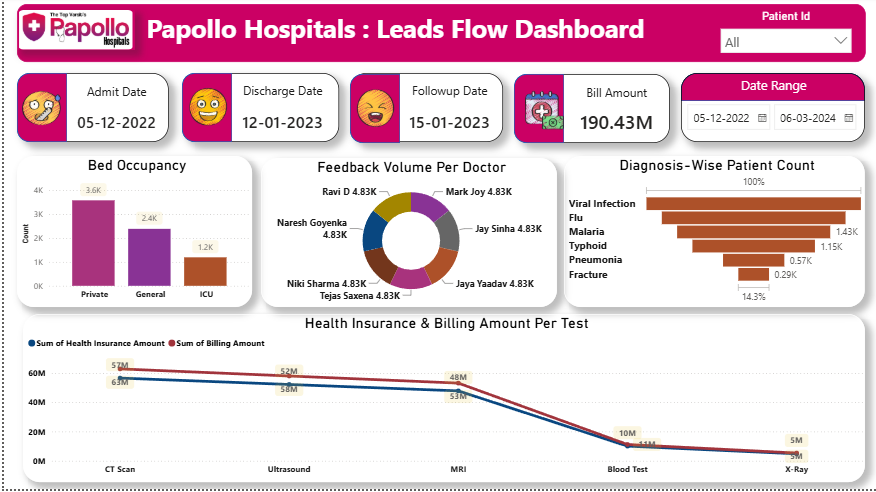

What the dashboard file says about the page in this screenshot:
{"tool":"powerbi","page":{"name":"Page 2","canvas":[1280,720],"ordinal":0},"visuals":[{"type":"shape","box":[19,111.2,222.4,101],"z":0},{"type":"shape","box":[19,111.2,73.2,101],"z":1000},{"type":"shape","box":[990.7,111.2,269.3,41],"z":2000},{"type":"cardVisual","fields":{"Data":["Min(Sheet1.Diagnosis)"]},"box":[18.3,10,1241.7,85],"z":3000},{"type":"image","box":[18.3,18.3,171.7,58.3],"z":4000},{"type":"textbox","box":[203.3,15,745,66.7],"z":5000},{"type":"slicer","title":"Patient Id ","fields":{"Values":["Sheet1.Patient_ID"]},"box":[1039,14.6,210.7,76.1],"z":6000},{"type":"image","box":[26.3,133.2,57.1,58.5],"z":7000},{"type":"shape","box":[260.5,111.2,229.8,101],"z":8000},{"type":"shape","box":[506.3,111.2,223.9,101],"z":9000},{"type":"shape","box":[746.3,112.7,228.3,101],"z":10000},{"type":"shape","box":[990.7,111.2,269.3,101],"z":11000},{"type":"shape","box":[260.5,111.2,73.2,101],"z":12000},{"type":"shape","box":[506.3,112.7,73.2,101],"z":13000},{"type":"shape","box":[746.3,112.7,73.2,101],"z":14000},{"type":"image","box":[270.7,131.7,55.6,58.5],"z":15000},{"type":"image","box":[512.2,134.6,62.9,55.6],"z":16000},{"type":"image","box":[762.4,133.2,57.1,64.4],"z":17000},{"type":"cardVisual","fields":{"Data":["Min(Sheet1.Admit_Date)"]},"box":[103.9,114.1,122.9,93.7],"z":18000},{"type":"cardVisual","fields":{"Data":["Min(Sheet1.Discharge_Date)"]},"box":[346.8,114.1,122.9,93.7],"z":19000},{"type":"cardVisual","fields":{"Data":["Min(Sheet1.Followup Date)"]},"box":[591.2,114.1,122.9,93.7],"z":20000},{"type":"cardVisual","fields":{"Data":["Sum(Sheet1.Billing Amount)"]},"box":[835.6,117.1,122.9,93.7],"z":21000},{"type":"columnChart","title":"Bed Occupancy","fields":{"Category":["Sheet1.Bed_Occupancy"],"Y":["CountNonNull(Sheet1.Bed_Occupancy)"]},"box":[19,232.7,343.9,221],"z":22000},{"type":"donutChart","title":"Feedback Volume Per Doctor ","fields":{"Y":["Sum(Sheet1.Feedback)"],"Category":["Sheet1.Doctor"]},"box":[376.1,235.6,433.2,218],"z":23000},{"type":"funnel","title":"Diagnosis-Wise Patient Count","fields":{"Category":["Sheet1.Diagnosis"],"Y":["CountNonNull(Sheet1.Patient_ID)"]},"box":[819.5,232.7,440.5,221],"z":24000},{"type":"lineChart","title":"Health Insurance & Billing Amount Per Test","fields":{"Category":["Sheet1.Test"],"Y":["Sum(Sheet1.Health Insurance Amount)","Sum(Sheet1.Billing Amount)"]},"box":[27.8,463.9,1232.2,245.9],"z":25000},{"type":"slicer","fields":{"Values":["Sheet1.Admit_Date"]},"box":[992.2,152.2,264.9,55.6],"z":26000},{"type":"textbox","box":[1058,111.2,142,41],"z":27000}]}

Visuals, with their boxes in screenshot pixels (x1, y1, x2, y2), scaled from the page's 1280x720 canvas onto the 876x492 screenshot:
shape: detection(13, 76, 165, 145)
shape: detection(13, 76, 63, 145)
shape: detection(678, 76, 862, 104)
cardVisual - Min(Sheet1.Diagnosis): detection(13, 7, 862, 65)
image: detection(13, 13, 130, 52)
textbox: detection(139, 10, 649, 56)
"Patient Id " slicer: detection(711, 10, 855, 62)
image: detection(18, 91, 57, 131)
shape: detection(178, 76, 336, 145)
shape: detection(346, 76, 500, 145)
shape: detection(511, 77, 667, 146)
shape: detection(678, 76, 862, 145)
shape: detection(178, 76, 228, 145)
shape: detection(346, 77, 397, 146)
shape: detection(511, 77, 561, 146)
image: detection(185, 90, 223, 130)
image: detection(351, 92, 394, 130)
image: detection(522, 91, 561, 135)
cardVisual - Min(Sheet1.Admit_Date): detection(71, 78, 155, 142)
cardVisual - Min(Sheet1.Discharge_Date): detection(237, 78, 321, 142)
cardVisual - Min(Sheet1.Followup Date): detection(405, 78, 489, 142)
cardVisual - Sum(Sheet1.Billing Amount): detection(572, 80, 656, 144)
"Bed Occupancy" columnChart: detection(13, 159, 248, 310)
"Feedback Volume Per Doctor " donutChart: detection(257, 161, 554, 310)
"Diagnosis-Wise Patient Count" funnel: detection(561, 159, 862, 310)
"Health Insurance & Billing Amount Per Test" lineChart: detection(19, 317, 862, 485)
slicer - Sheet1.Admit_Date: detection(679, 104, 860, 142)
textbox: detection(724, 76, 821, 104)
